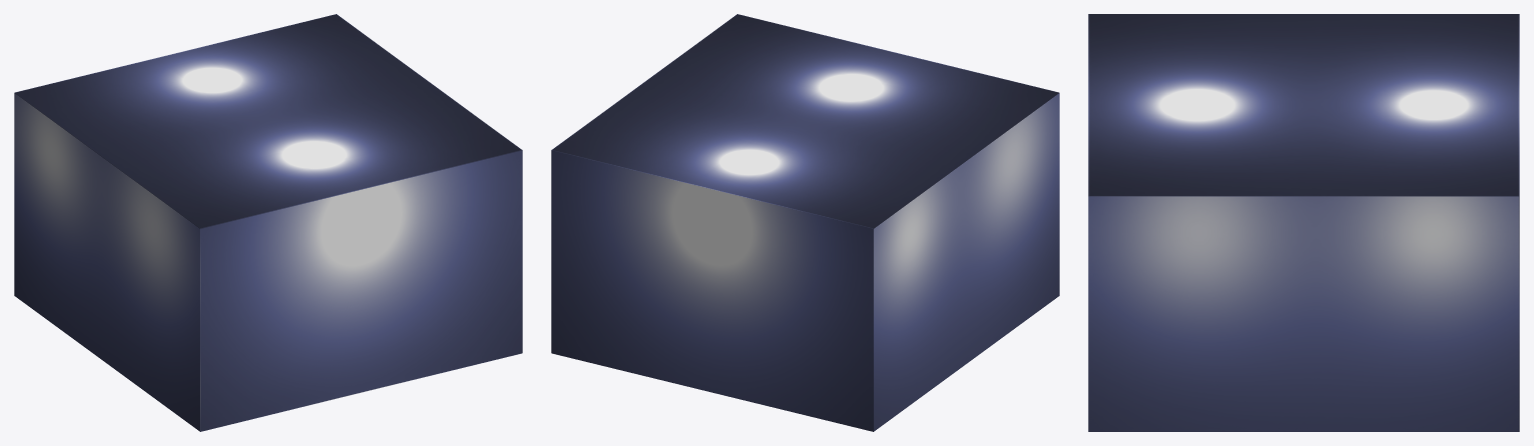
File: Room_01.fbx
3 renders of one model, left to right at view 1: azimuth 30°, elevation 25°; view 2: azimuth 150°, elevation 25°; view 3: azimuth 270°, elevation 25°, orthographic. The views are drawn at different scales.
Parts seen in each view (by area): view 1: Cube; view 2: Cube; view 3: Cube.
Boxes of the visible parts, <box> form: Cube: <box>14,14,522,431</box>; Cube: <box>551,14,1059,431</box>; Cube: <box>1088,14,1519,431</box>.
Size of the model in its own units: 1517 by 914 by 1517.
1 material, 1 textured.
